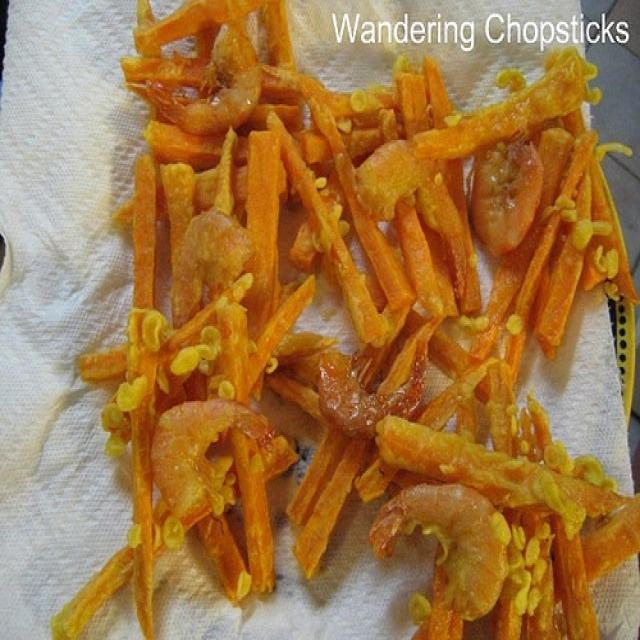炸货点心: (47, 2, 630, 628)
熟制海鲜: (47, 2, 630, 628)
